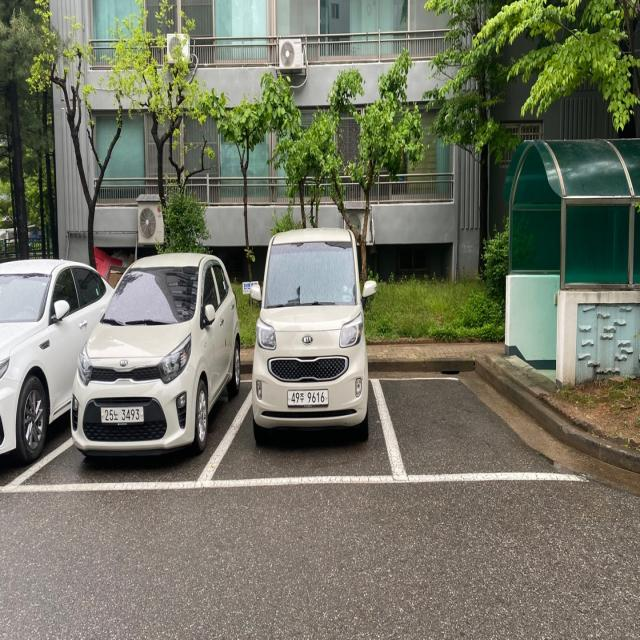empty: (371, 375, 600, 485)
occupied: (74, 258, 235, 460), (252, 230, 375, 441)
